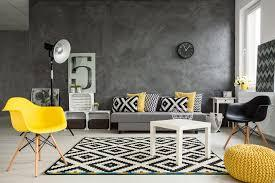chair: (1, 94, 77, 179), (215, 93, 272, 153)
